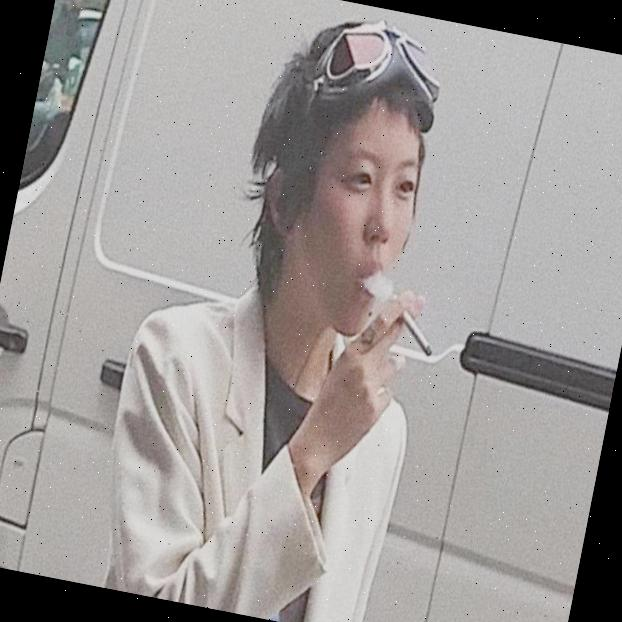smoke: (360, 263, 400, 308)
